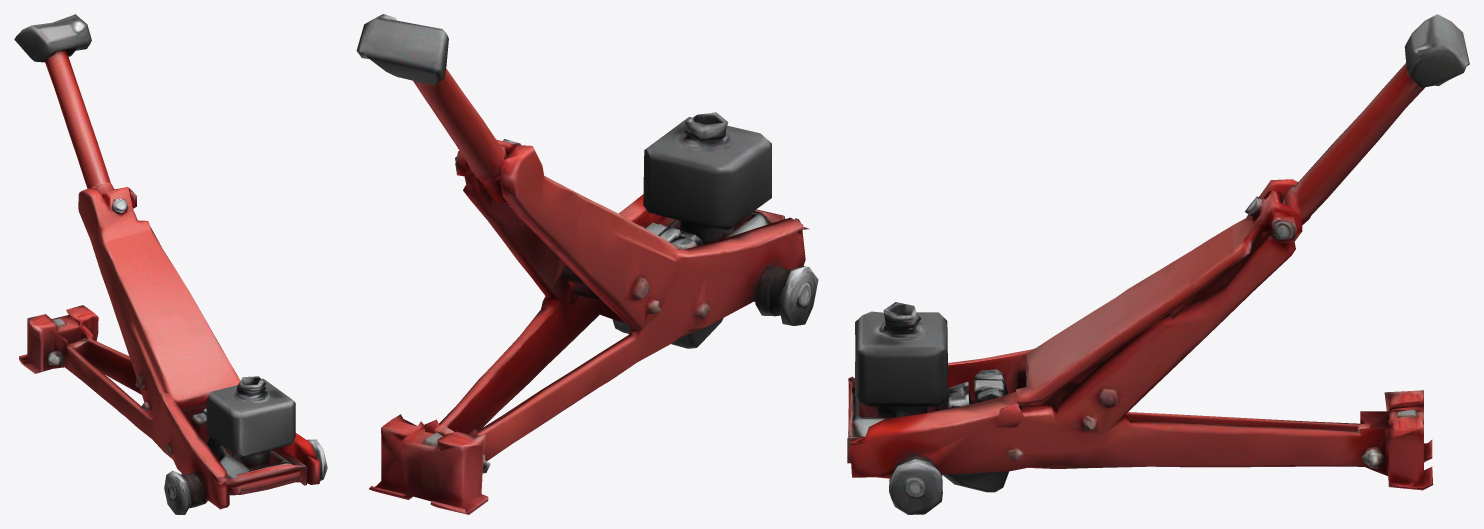
The model's file is gr_jack.glb.
3 renders of one model, left to right at view 1: azimuth 30°, elevation 25°; view 2: azimuth 150°, elevation 25°; view 3: azimuth 270°, elevation 25°, orthographic. The views are drawn at different scales.
Visible parts, largest first — view 1: tripo_node_f79b0ef1-fd47-4578-b493-8d01f6d36a70; view 2: tripo_node_f79b0ef1-fd47-4578-b493-8d01f6d36a70; view 3: tripo_node_f79b0ef1-fd47-4578-b493-8d01f6d36a70.
Boxes of the visible parts, box(x1,y1,x2,y2) form: tripo_node_f79b0ef1-fd47-4578-b493-8d01f6d36a70: box(14, 14, 327, 514); tripo_node_f79b0ef1-fd47-4578-b493-8d01f6d36a70: box(356, 14, 818, 514); tripo_node_f79b0ef1-fd47-4578-b493-8d01f6d36a70: box(847, 14, 1469, 514).
Size of the model in its own units: 0.3701 by 0.7983 by 1.
Materials: 1 (1 with a texture image).
